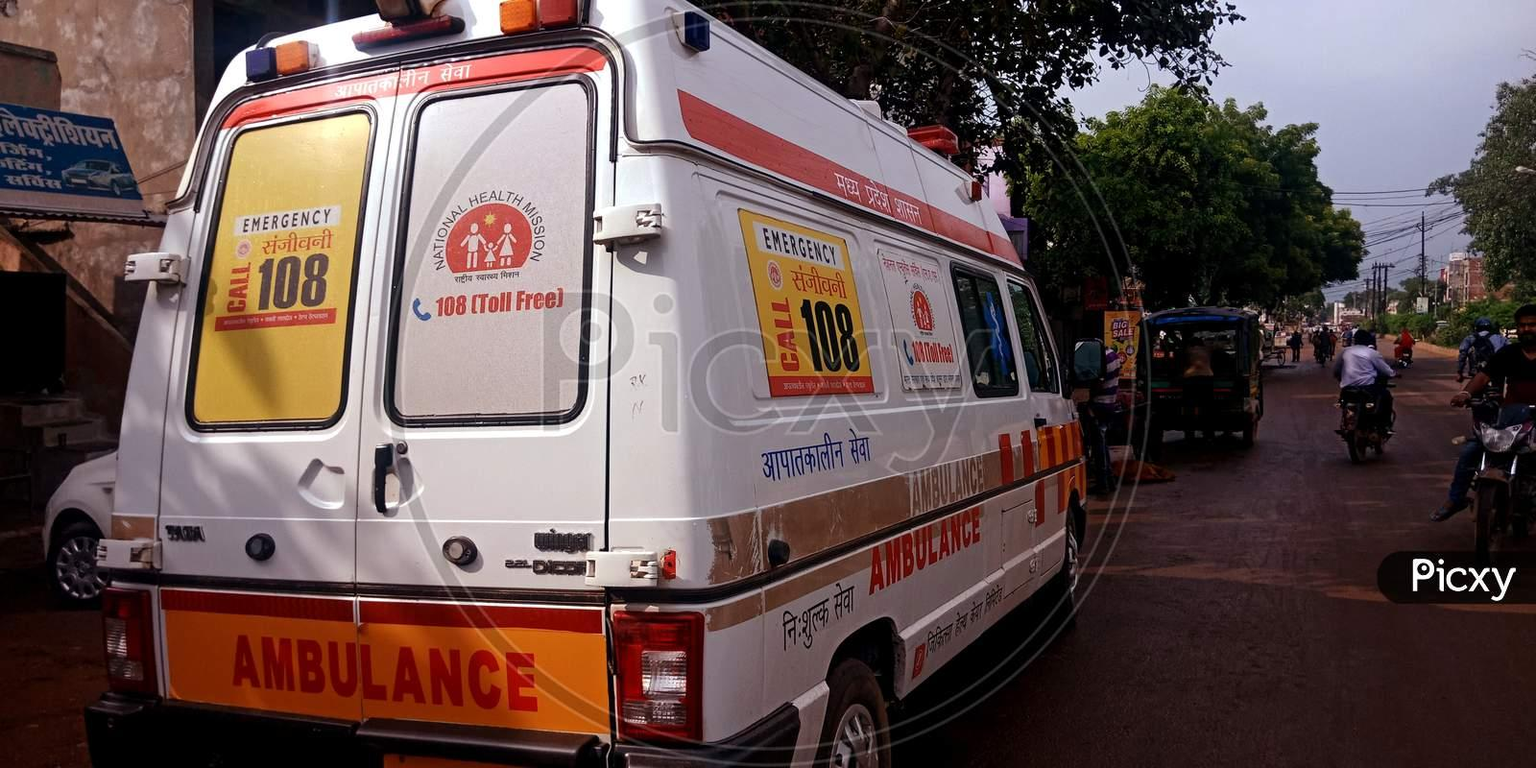Emergency-Vehicles: (42, 0, 1161, 768)
